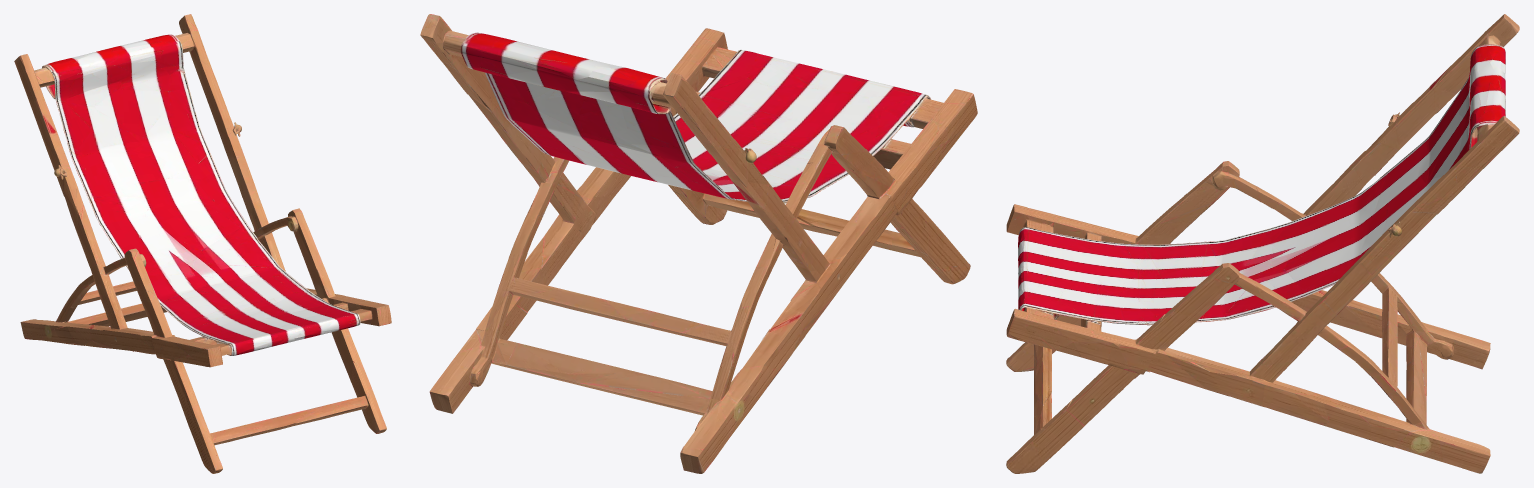
File: deck_chair.glb
3 views of the same model, side by side, from view 1: azimuth 30°, elevation 25°; view 2: azimuth 150°, elevation 25°; view 3: azimuth 270°, elevation 25° (orthographic). The views are drawn at different scales.
Size of the model in its own units: 1.02 by 1.45 by 1.9.
Materials: 1 (1 with a texture image).
